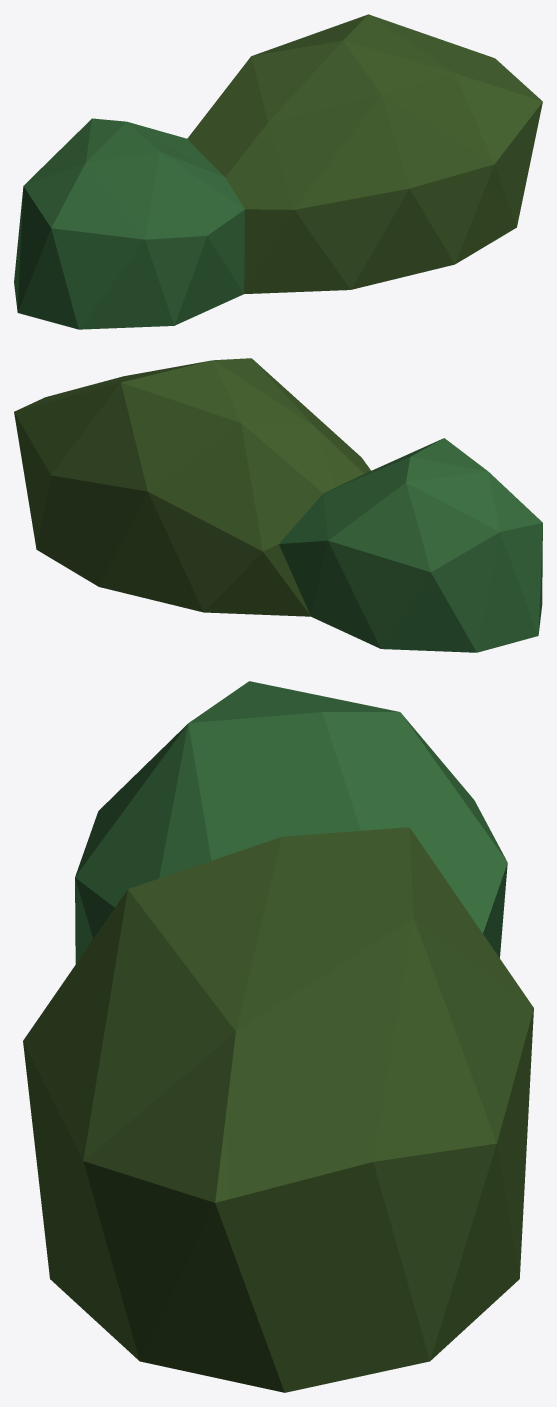
File: Bush2.fbx
3 views of the same model, one above another, from view 1: azimuth 30°, elevation 25°; view 2: azimuth 150°, elevation 25°; view 3: azimuth 270°, elevation 25° (orthographic). The views are drawn at different scales.
Visible parts, largest first — view 1: Bush2; view 2: Bush2; view 3: Bush2.
Part boxes in pixels (x1=…): Bush2: x1=14, y1=14, x2=542, y2=329; Bush2: x1=14, y1=358, x2=542, y2=652; Bush2: x1=23, y1=681, x2=533, y2=1392.
Bounding box in the file's own units: 2.54 × 0.9306 × 1.11.
